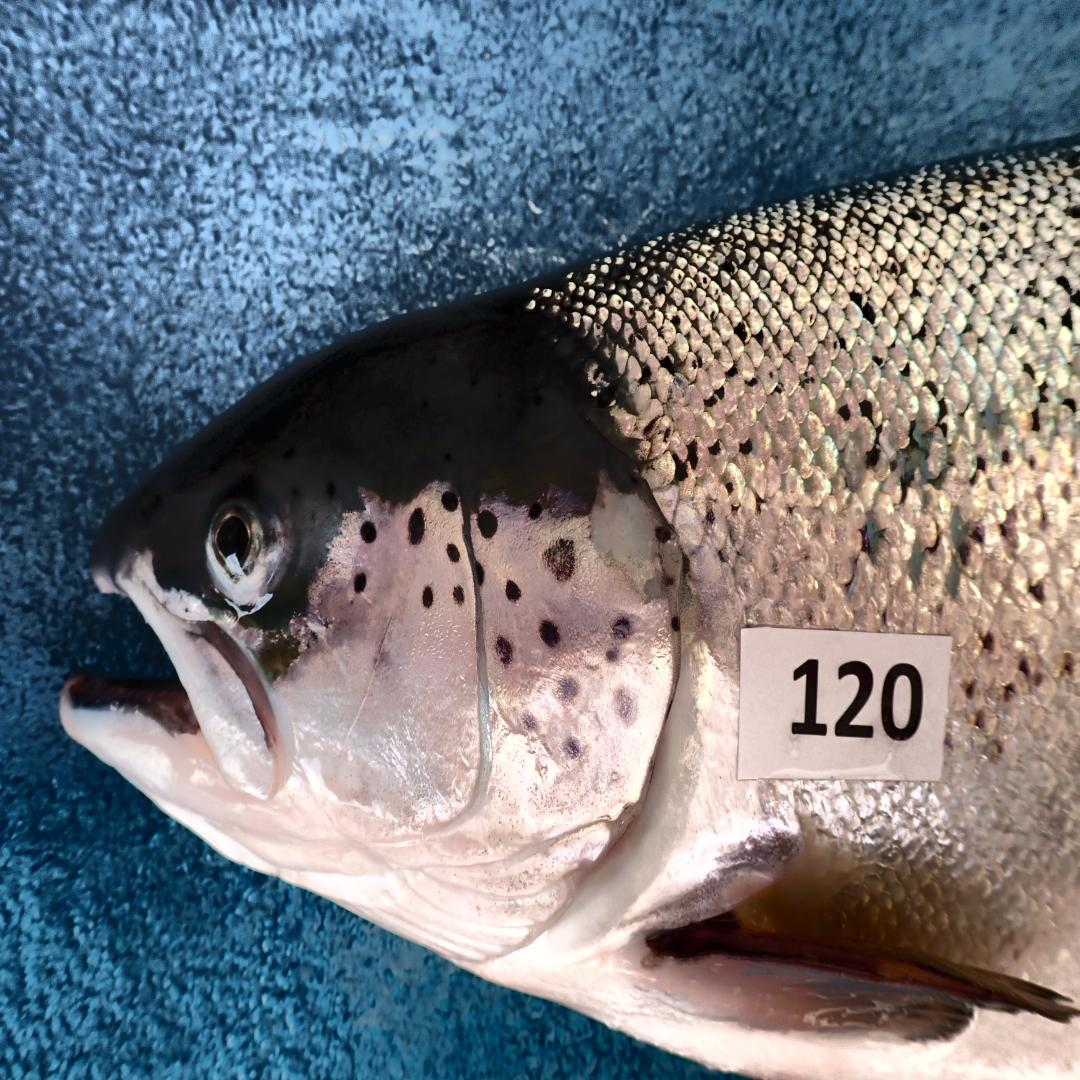spot: (544, 537, 576, 582), (616, 689, 637, 726), (409, 506, 424, 546), (477, 509, 498, 537), (540, 619, 559, 647), (496, 636, 513, 667), (612, 616, 633, 638), (559, 678, 578, 700), (361, 520, 378, 543), (518, 712, 537, 732), (565, 737, 582, 759), (506, 579, 521, 602), (441, 492, 458, 512), (475, 560, 485, 587), (655, 526, 670, 543), (447, 543, 460, 562), (354, 574, 367, 593), (529, 501, 542, 520), (422, 585, 432, 608), (605, 647, 618, 664), (454, 585, 464, 605), (671, 616, 681, 633)
